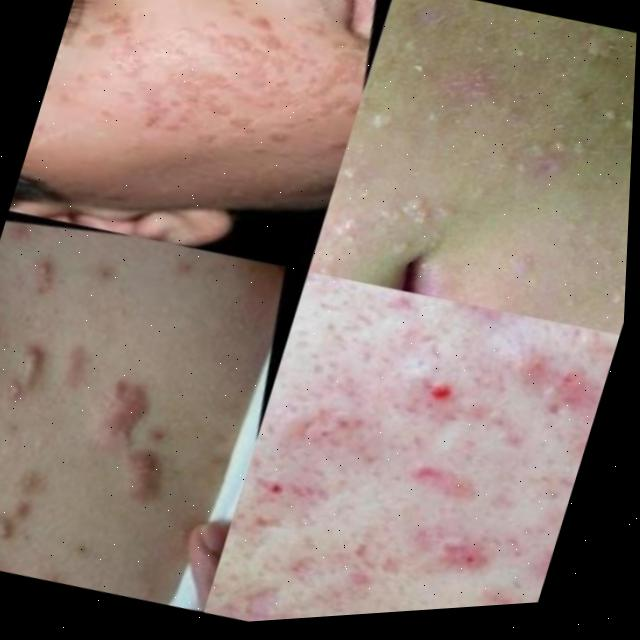Acne: (234, 314, 511, 623), (0, 264, 252, 590), (363, 0, 639, 270), (67, 0, 355, 212)
